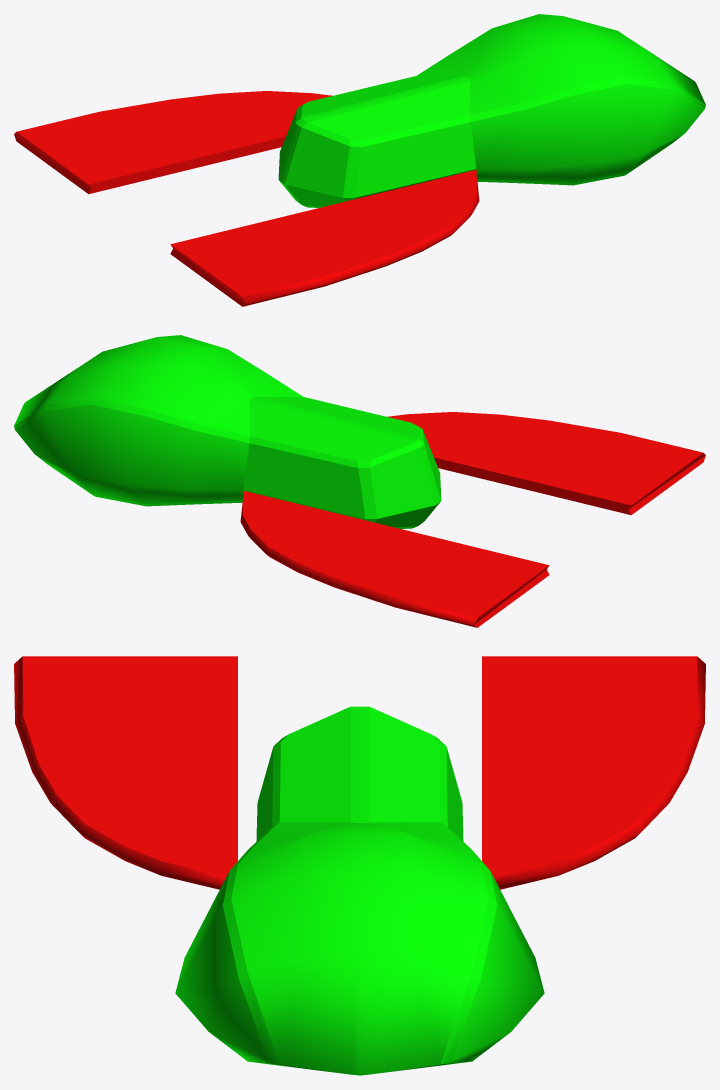
File: ship.glb
The picture shows the model from 3 angles, top to bottom: view 1: azimuth 30°, elevation 25°; view 2: azimuth 150°, elevation 25°; view 3: azimuth 270°, elevation 25°; orthographic projection. The views are drawn at different scales.
Visible parts, largest first — view 1: Ship; view 2: Ship; view 3: Ship.
Part boxes in pixels (left/top/right/bottom): Ship: left=14, top=14, right=705, bottom=306; Ship: left=14, top=335, right=705, bottom=627; Ship: left=14, top=656, right=705, bottom=1075.
Bounding box in the file's own units: 1.98 × 0.4339 × 1.41.
